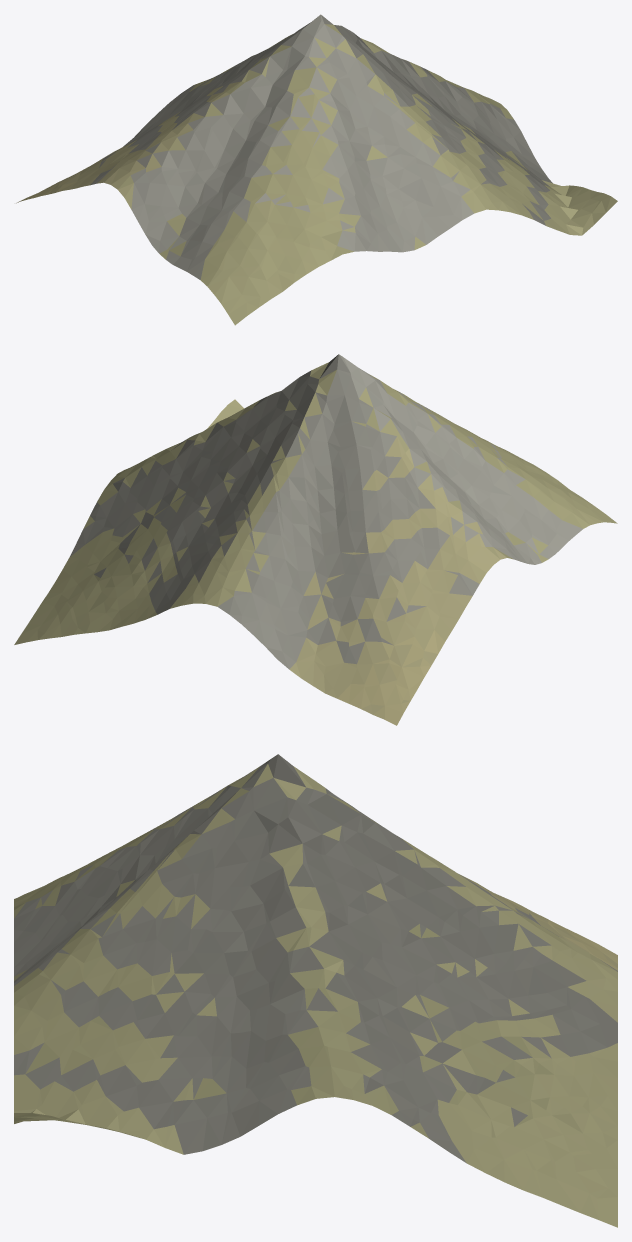
The model's file is Ground_3_1.glb.
3 views of the same model, one above another, from view 1: azimuth 30°, elevation 25°; view 2: azimuth 150°, elevation 25°; view 3: azimuth 270°, elevation 25° (orthographic). The views are drawn at different scales.
Visible parts, largest first — view 1: Ground_3_1; view 2: Ground_3_1; view 3: Ground_3_1.
Part boxes in pixels (bbox=[...]): Ground_3_1: bbox=[16, 14, 617, 325]; Ground_3_1: bbox=[14, 354, 617, 725]; Ground_3_1: bbox=[14, 754, 617, 1227].
Bounding box in the file's own units: 768 × 477 × 768.
